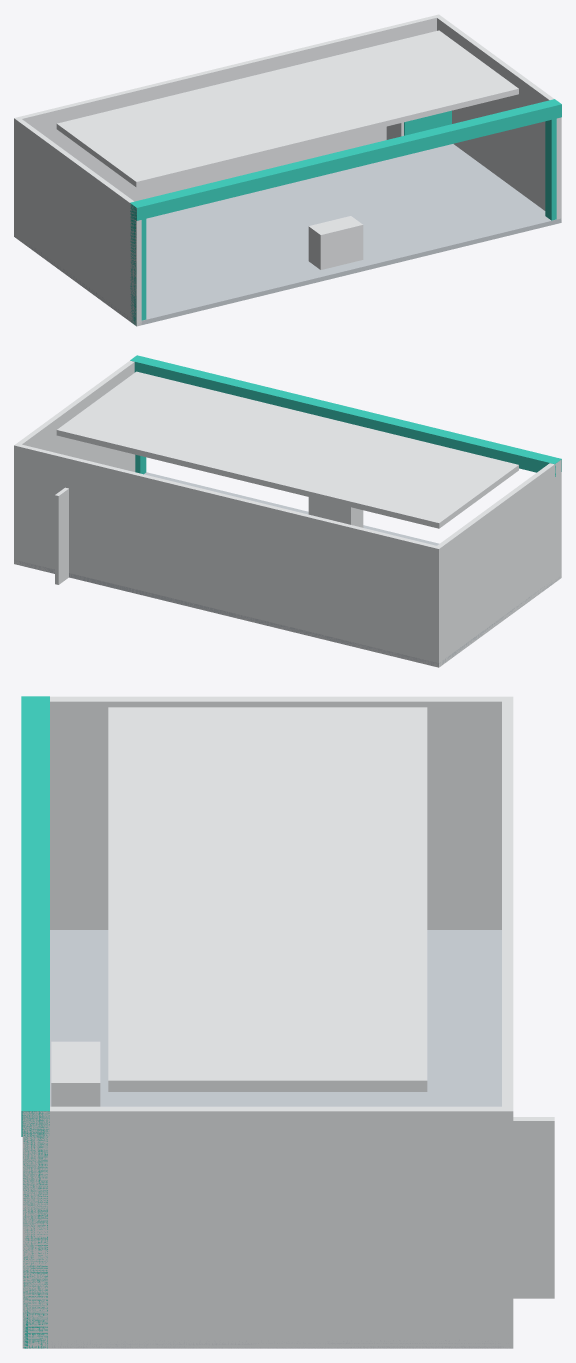
The picture shows the model from 3 angles, top to bottom: view 1: azimuth 30°, elevation 25°; view 2: azimuth 150°, elevation 25°; view 3: azimuth 270°, elevation 25°; orthographic projection. The views are drawn at different scales.
Visible parts, largest first — view 1: Exhibition Booth Concept; view 2: Exhibition Booth Concept; view 3: Exhibition Booth Concept.
Part boxes in pixels (x1,y1,x2,y2): Exhibition Booth Concept: [14, 14, 561, 326]; Exhibition Booth Concept: [14, 355, 561, 667]; Exhibition Booth Concept: [21, 696, 554, 1348].
Size of the model in its own units: 12 by 3.34 by 6.52.
